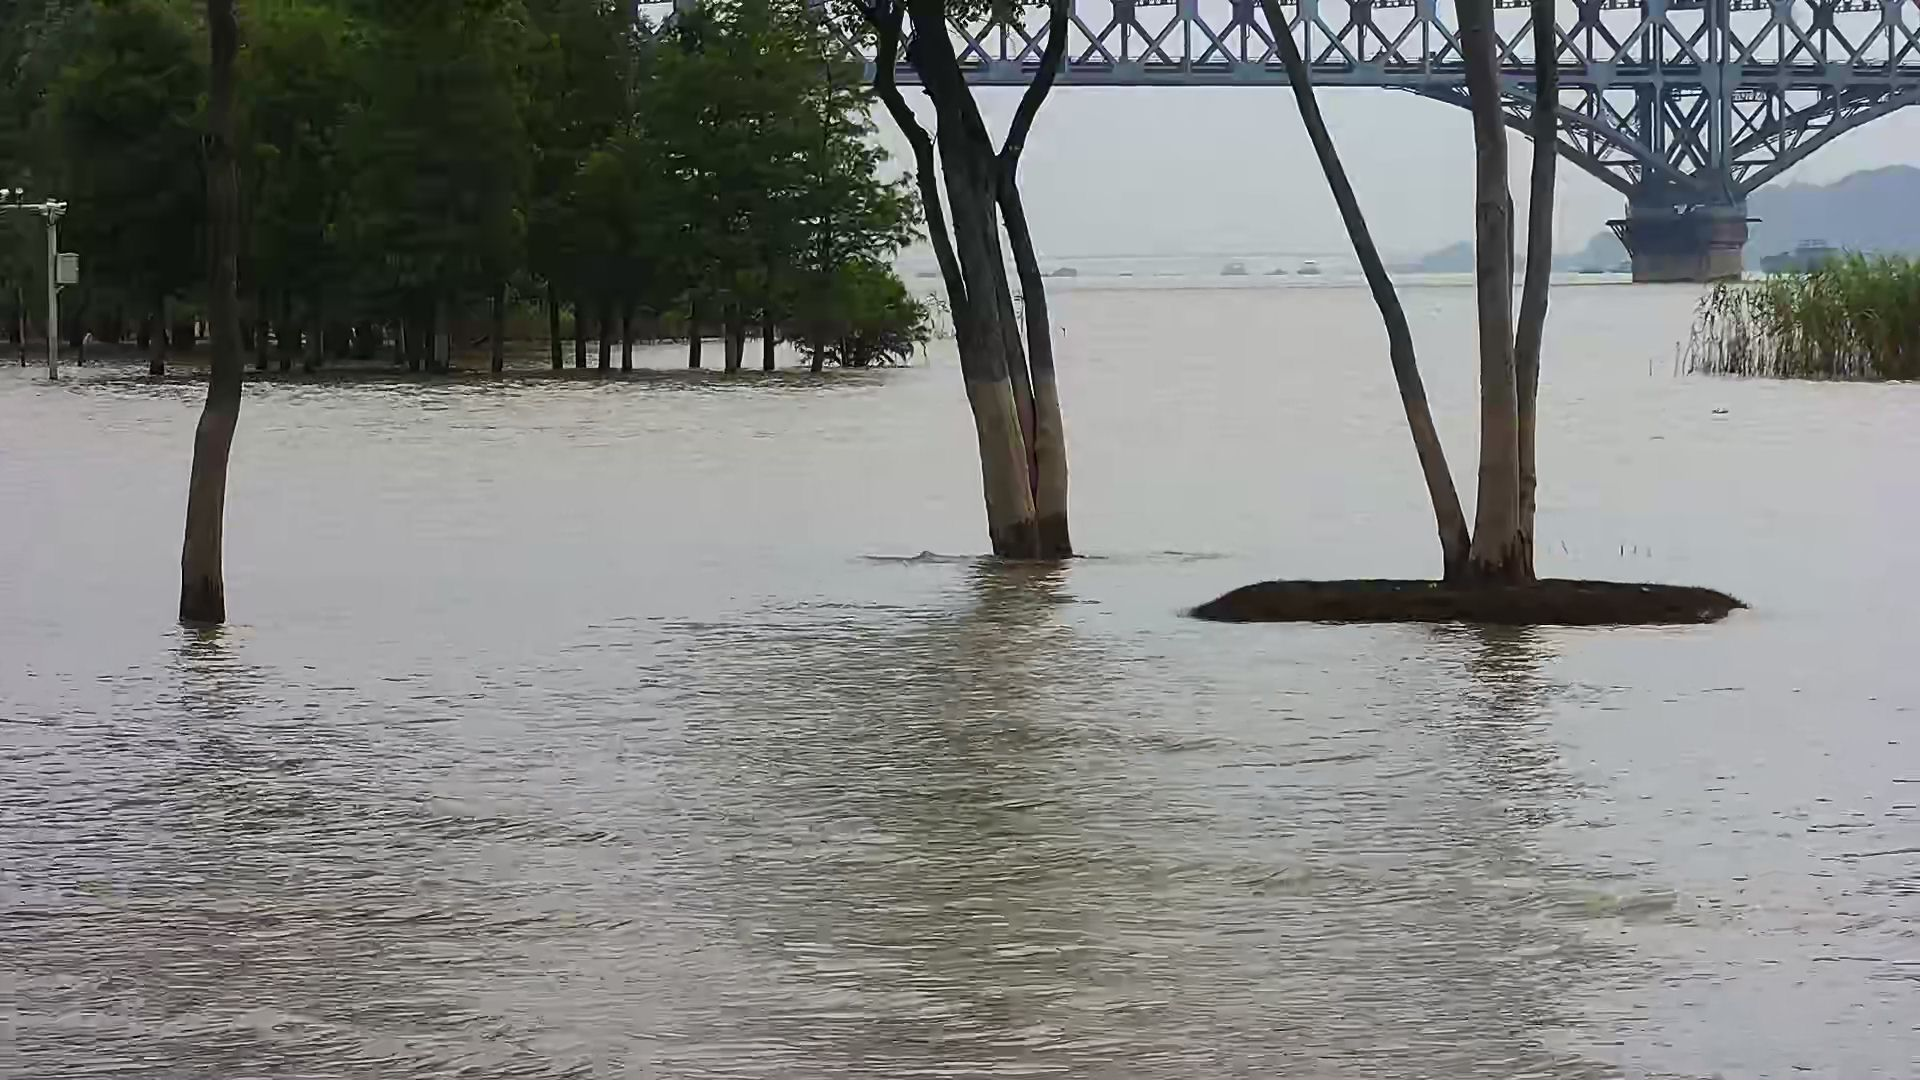bridge: (878, 3, 1920, 281)
grass: (1673, 252, 1920, 385)
mast: (1, 185, 78, 382)
tree: (1193, 3, 1742, 620), (251, 3, 596, 381), (603, 3, 915, 378), (873, 4, 1071, 564), (41, 4, 200, 378), (179, 3, 241, 618)
